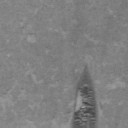oxide scale of plate system: (70, 62, 99, 128)
